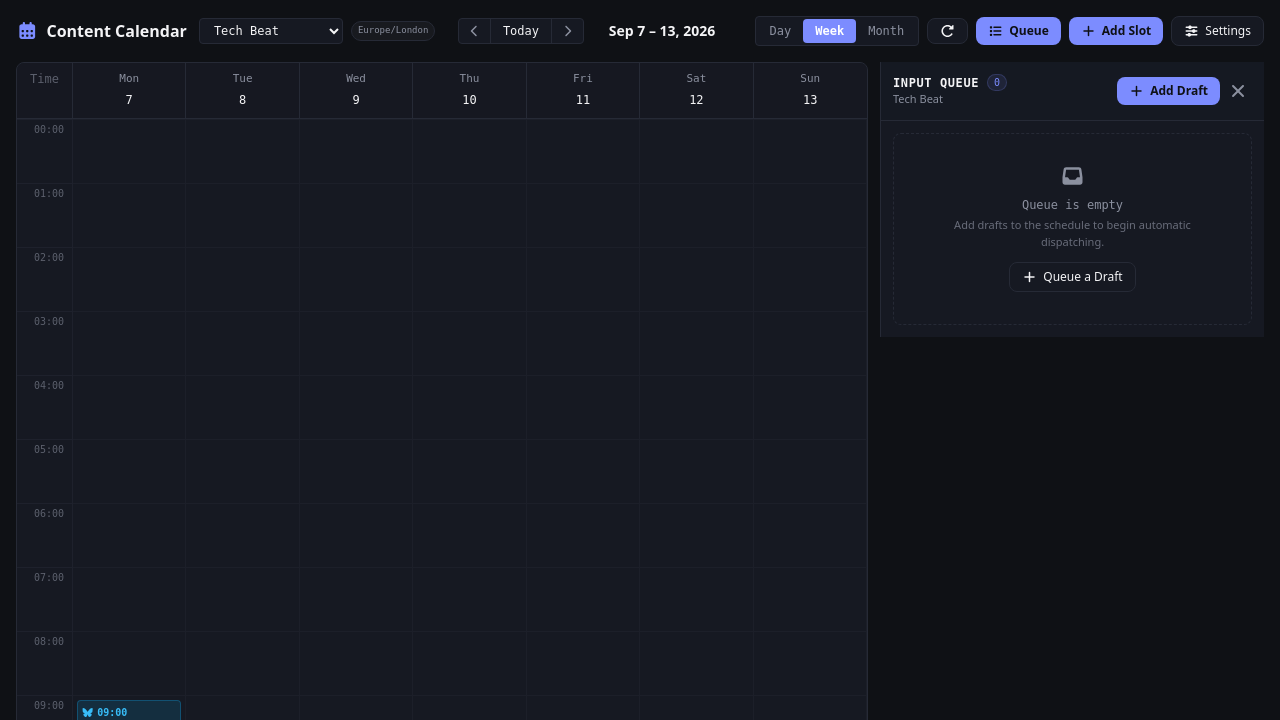
Test case: CalendarPage › switching view toggles between week, day, and month views
Expected: the button with test id "view-toggle-week" is shown, [803,19,856,43]
Switch to month view
What coordinates should you click on to do the following:
click the button with test id "view-toggle-month"
I would click on:
 (886, 31)
Its box is [856,19,916,43].
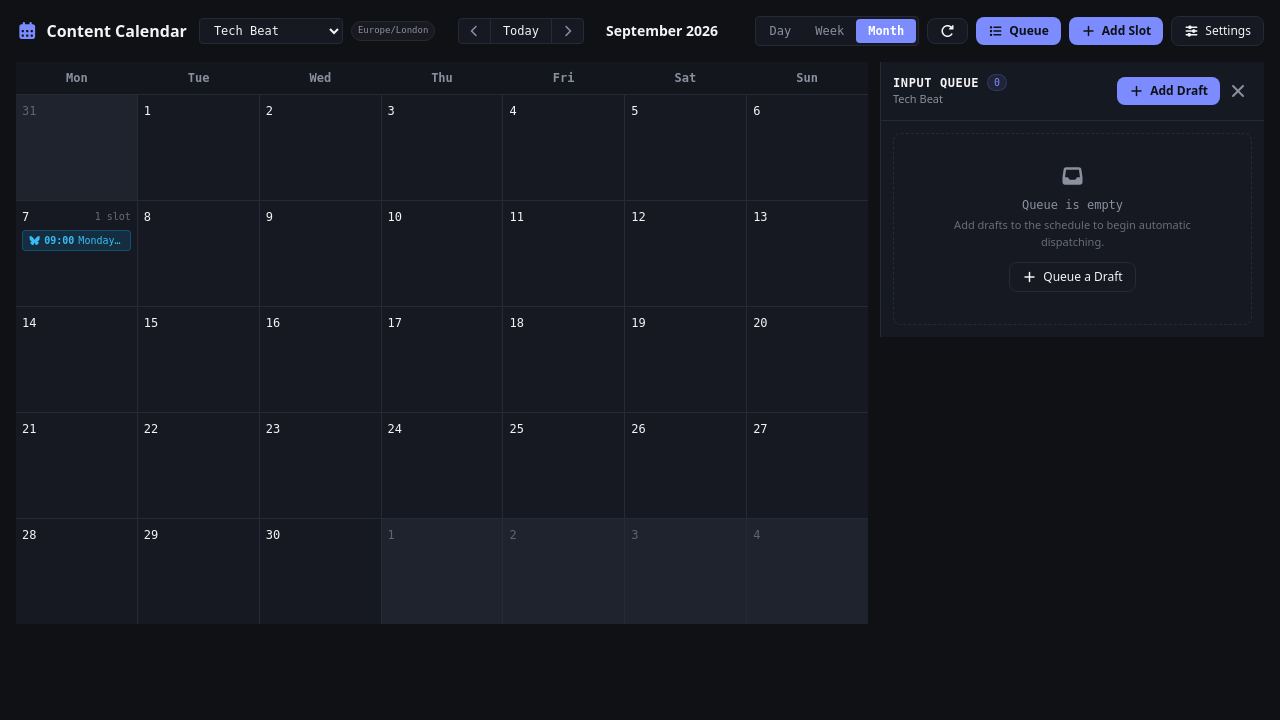
Expected: the text "Sun" is shown, [796,71,818,85]
Expected: the text "Mon" is shown, [66,71,88,85]
Switch to day view
What coordinates should you click on to do the following:
click the button with test id "view-toggle-day"
I would click on:
 (780, 31)
Its box is [758,19,803,43].
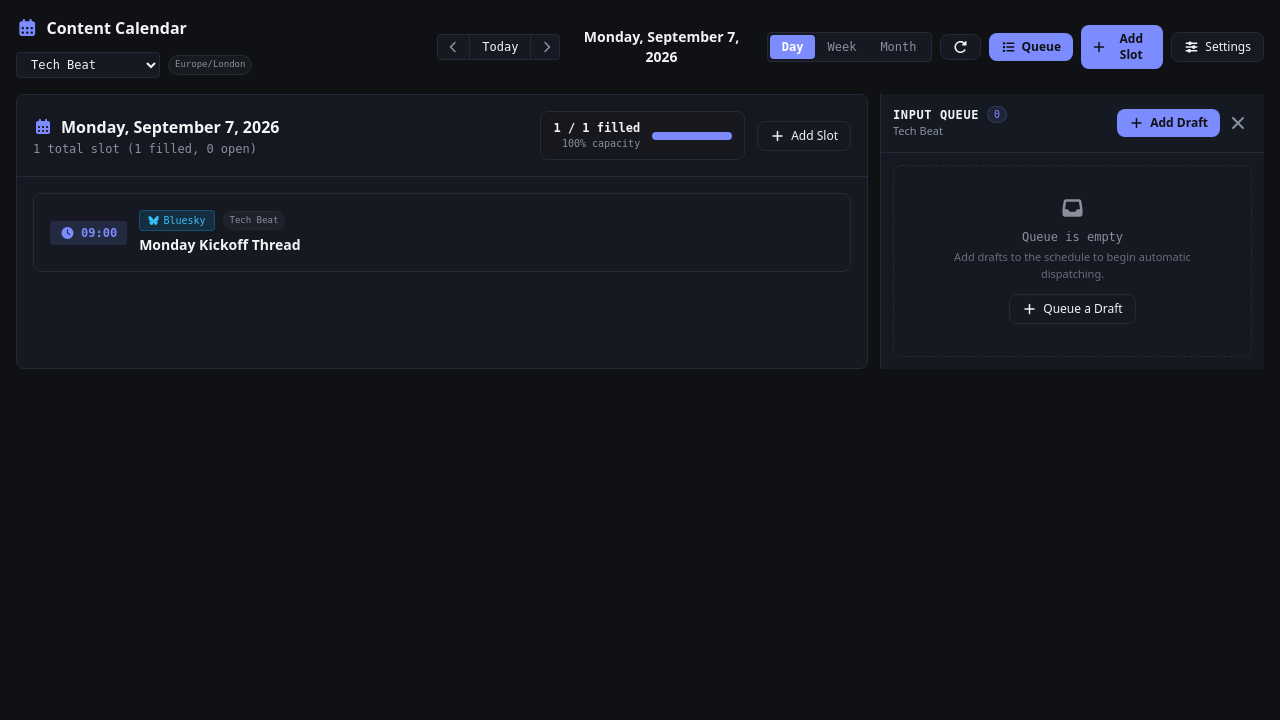
Expected: the text with test id "cal-period-label" reads "Monday, September 7, 2026", [584,27,739,66]
Expected: the heading "Monday, September 7, 2026" is shown, [33,114,280,138]
